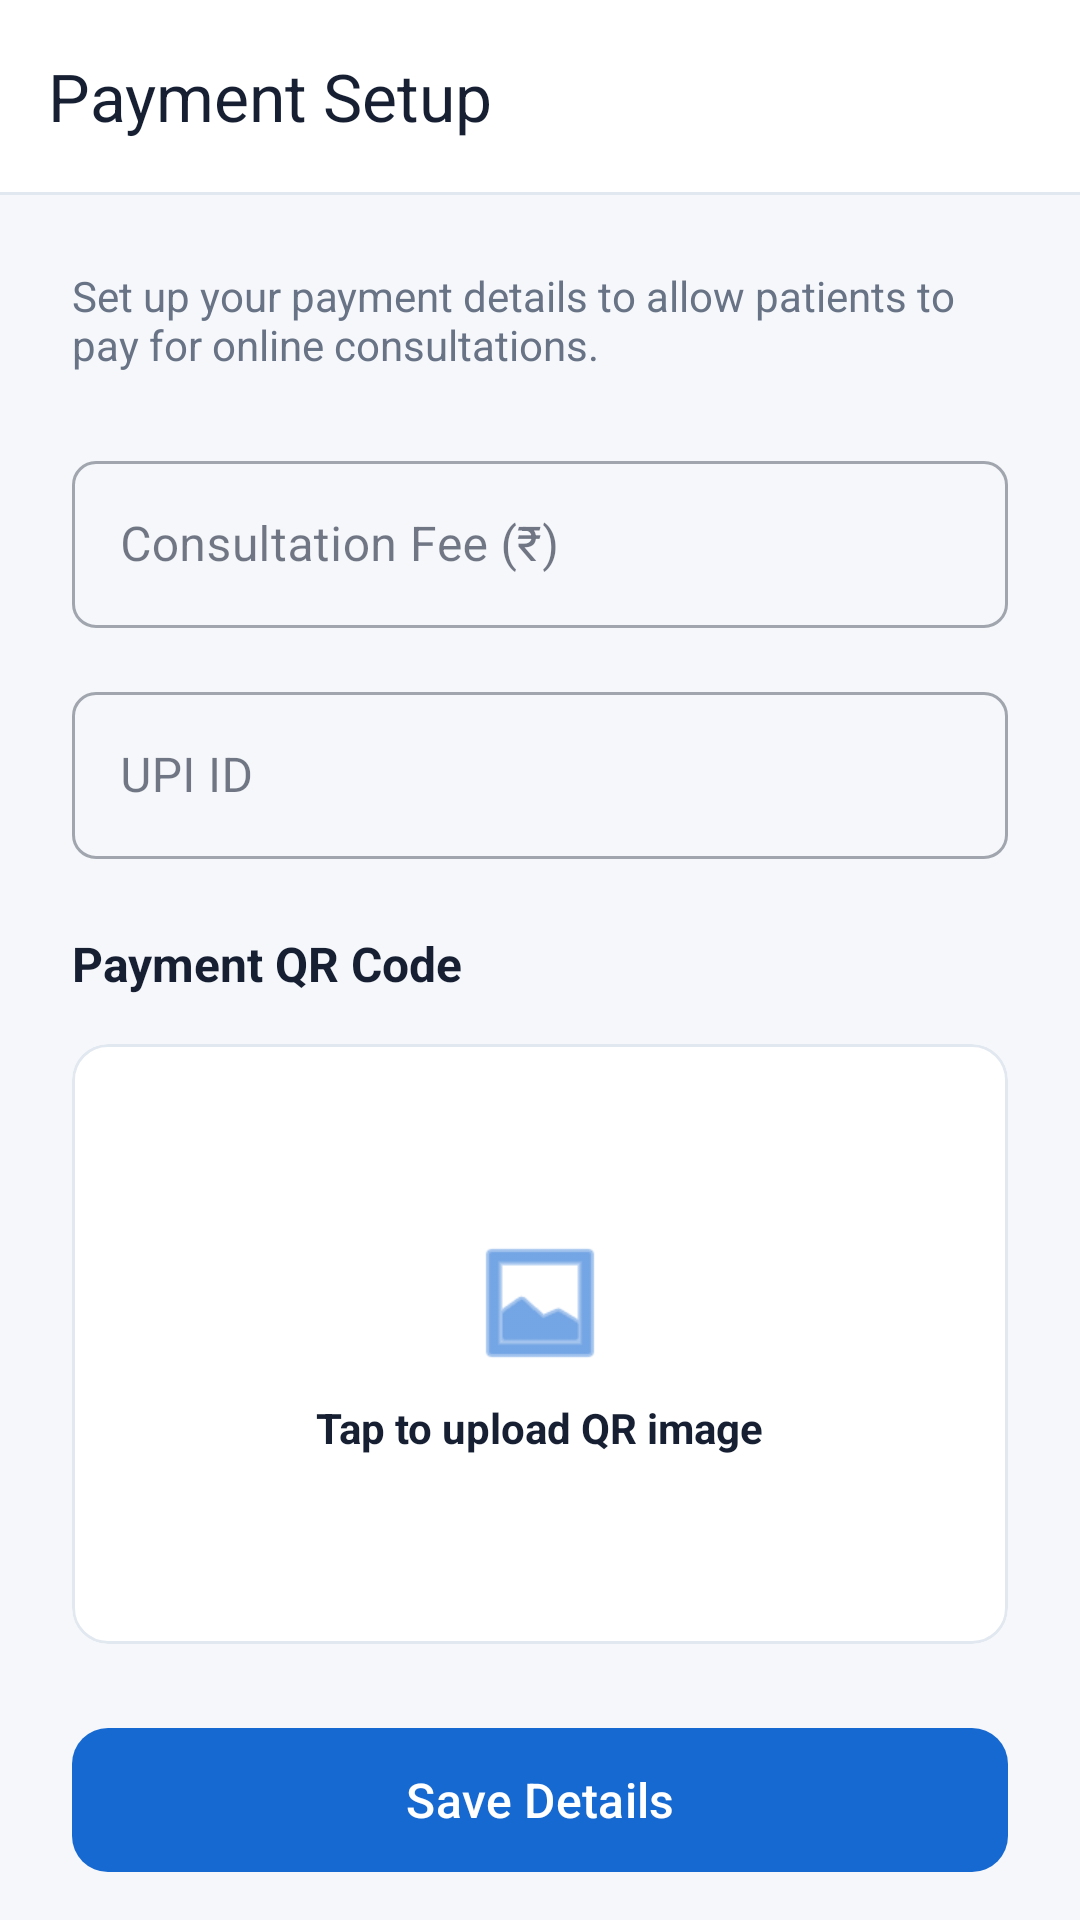

Named icons in this screenshot (1080 x 1920) and their bounding boxes, (x1, y1, x2, y2):
gallery: (486, 1249, 594, 1357)
